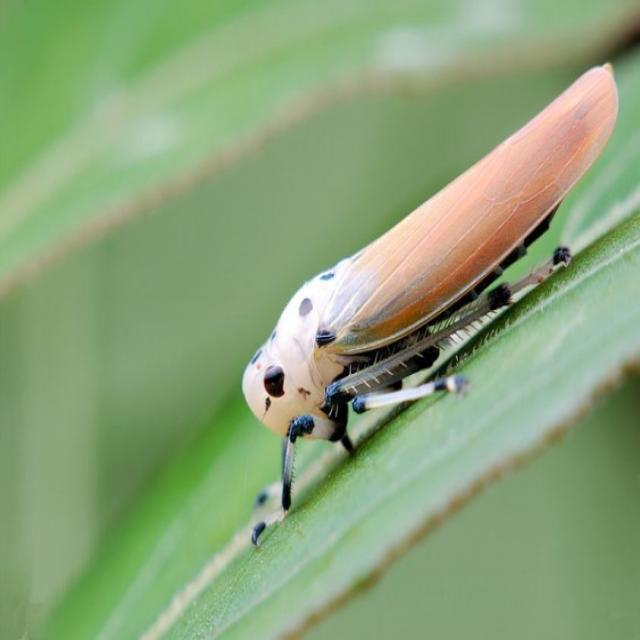Yechan: (239, 53, 628, 555)
